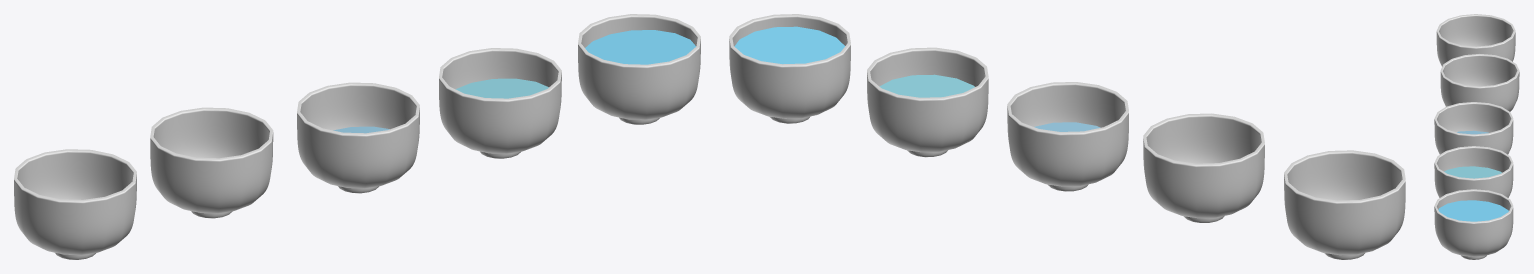
Rendered from hyawan2.fbx.
The picture shows the model from 3 angles, left to right: view 1: azimuth 30°, elevation 25°; view 2: azimuth 150°, elevation 25°; view 3: azimuth 270°, elevation 25°; orthographic projection. The views are drawn at different scales.
Parts seen in each view (by area): view 1: chawan2, chawan1, chawan3, chawan4, chawan5; view 2: chawan1, chawan5, chawan2, chawan3, chawan4; view 3: chawan5, chawan2, chawan3, chawan4, chawan1.
Part boxes in pixels (bbox=[...]): chawan2: bbox=[150, 107, 273, 218]; chawan1: bbox=[14, 149, 136, 259]; chawan3: bbox=[297, 82, 419, 193]; chawan4: bbox=[439, 48, 561, 158]; chawan5: bbox=[578, 14, 700, 124]; chawan1: bbox=[1284, 150, 1405, 259]; chawan5: bbox=[729, 14, 850, 123]; chawan2: bbox=[1143, 113, 1264, 222]; chawan3: bbox=[1007, 82, 1128, 191]; chawan4: bbox=[867, 47, 988, 157]; chawan5: bbox=[1434, 189, 1513, 259]; chawan2: bbox=[1440, 54, 1519, 111]; chawan3: bbox=[1434, 102, 1513, 154]; chawan4: bbox=[1434, 146, 1513, 197]; chawan1: bbox=[1436, 14, 1515, 66].
Size of the model in its own units: 5004 by 585 by 864.
